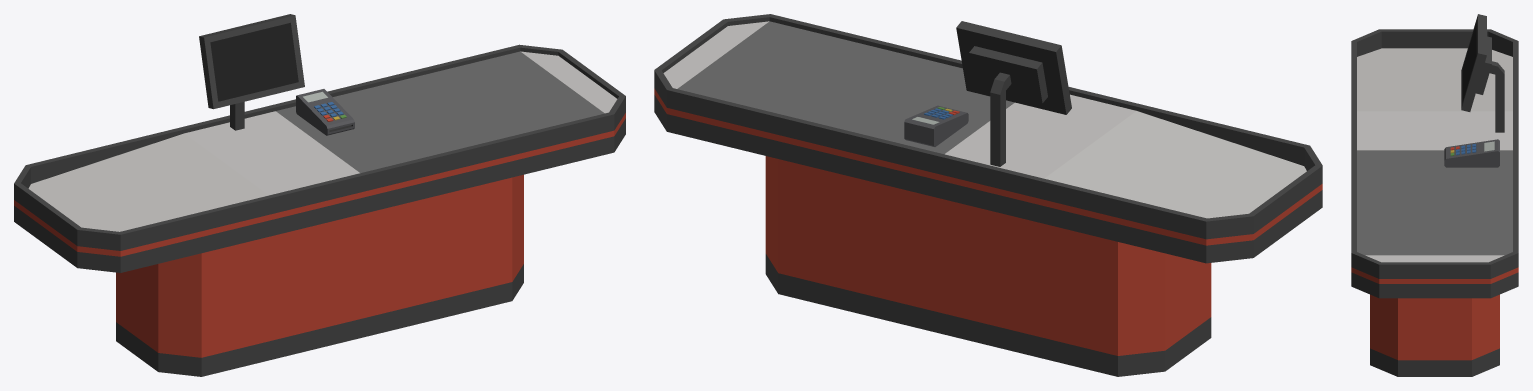
Rendered from CheckoutCounter.fbx.
3 views of the same model, side by side, from view 1: azimuth 30°, elevation 25°; view 2: azimuth 150°, elevation 25°; view 3: azimuth 270°, elevation 25° (orthographic). The views are drawn at different scales.
Visible parts, largest first — view 1: CheckoutCounter, Monitor, PaymentTerminal; view 2: CheckoutCounter, Monitor, PaymentTerminal; view 3: CheckoutCounter, Monitor, PaymentTerminal.
Boxes of the visible parts, left/top/right/bottom form: CheckoutCounter: left=14, top=44, right=625, bottom=376; Monitor: left=199, top=14, right=304, bottom=130; PaymentTerminal: left=296, top=89, right=354, bottom=135; CheckoutCounter: left=654, top=14, right=1322, bottom=376; Monitor: left=956, top=21, right=1071, bottom=166; PaymentTerminal: left=904, top=105, right=968, bottom=146; CheckoutCounter: left=1351, top=29, right=1518, bottom=376; Monitor: left=1461, top=14, right=1504, bottom=132; PaymentTerminal: left=1444, top=139, right=1499, bottom=167.
Bounding box in the file's own units: 3 × 1.46 × 0.9.
